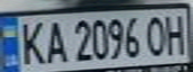0: (90, 16, 109, 61)
2: (69, 16, 93, 64)
6: (121, 14, 145, 58)
9: (106, 15, 127, 60)
A: (42, 17, 69, 65)
H: (163, 11, 190, 56)
K: (15, 17, 48, 66)
O: (142, 12, 169, 57)
